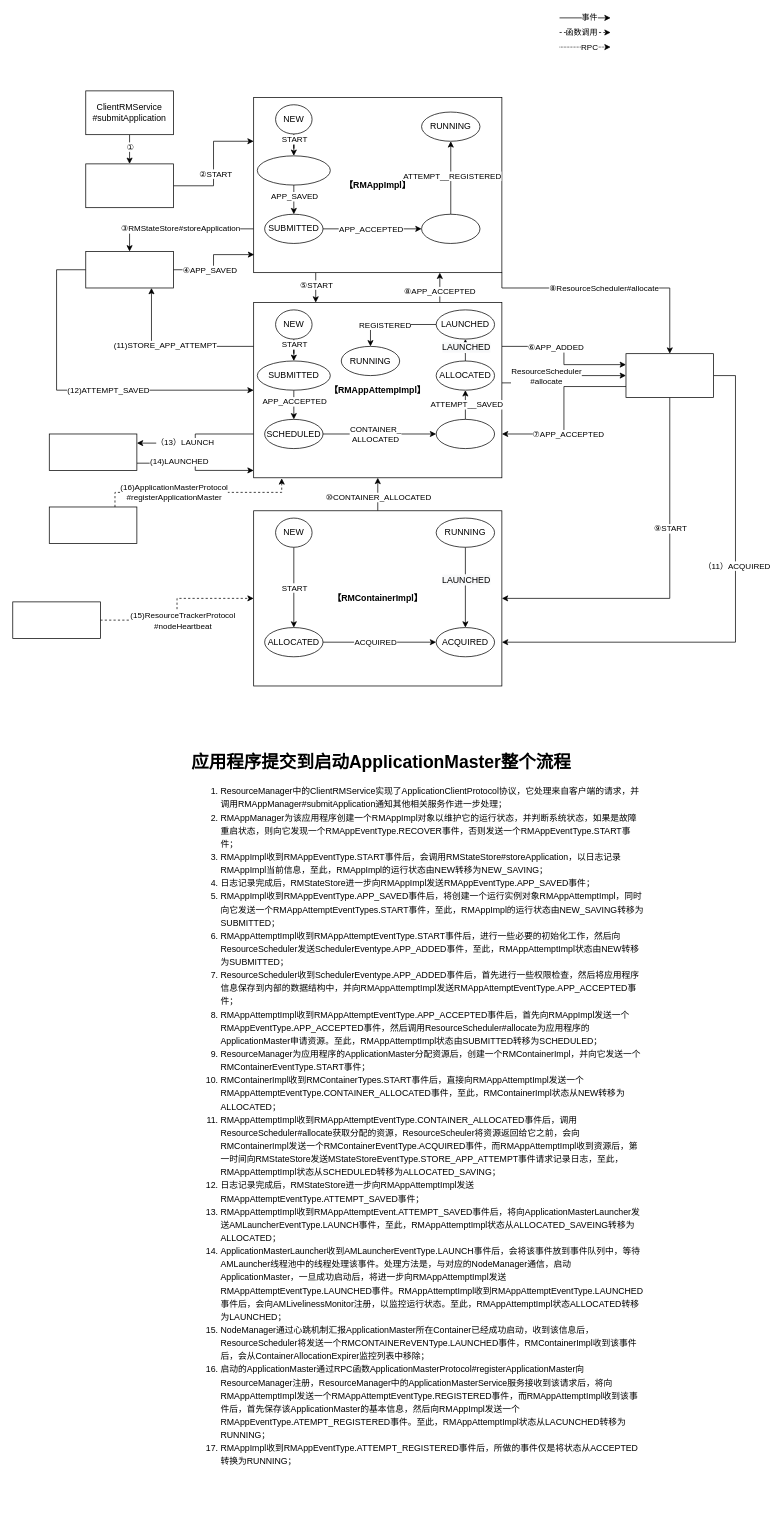
The diagram is 783 pixels wide and 1527 high, and some of its shapes have lost their labels. Here are the shapes that lost their labels. From the top down, the centre of each, then its label:
the point at 129,185: RMAppManager #submitApplication
the point at 293,170: NEW_SAVING
the point at 450,228: ACCEPTED
the point at 129,269: RMStateStore
the point at 669,375: ResourceScheduler
the point at 93,451: ApplicationMaster Launcher
the point at 465,434: ALLOCATED _SAVING
the point at 93,524: ApplicationMaster
the point at 56,619: NodeManager
